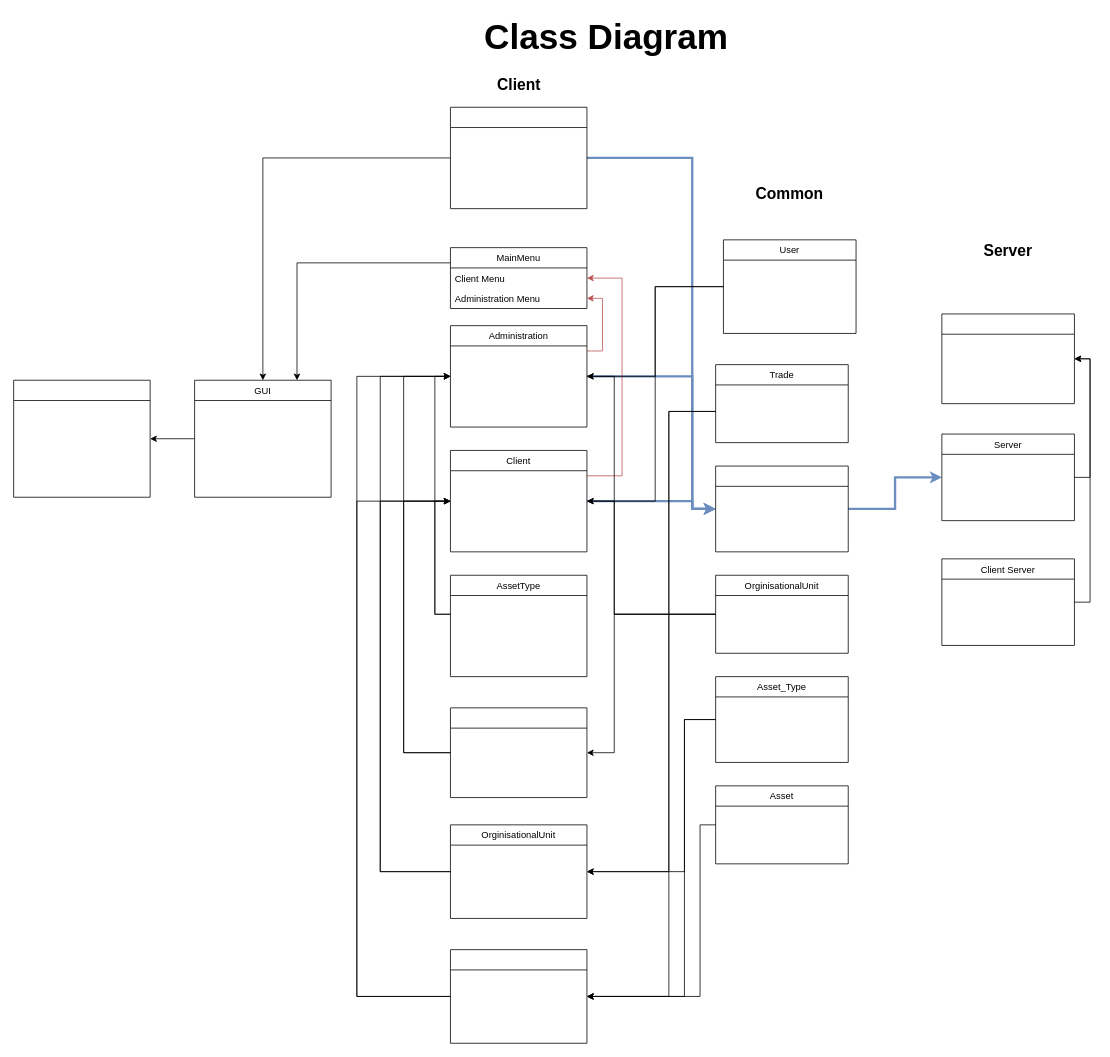
Image size: 1110x1057. Some labels were removed from this diagram. Here are the shapes that lost their labels. From the top down, the centre of each, then its label:
At point 518,157: "Login".
At point 1007,358: "Main (server)".
At point 81,438: "Main".
At point 781,508: "JSON (classes)".
At point 518,752: "MyAccount".
At point 518,996: "Store".
